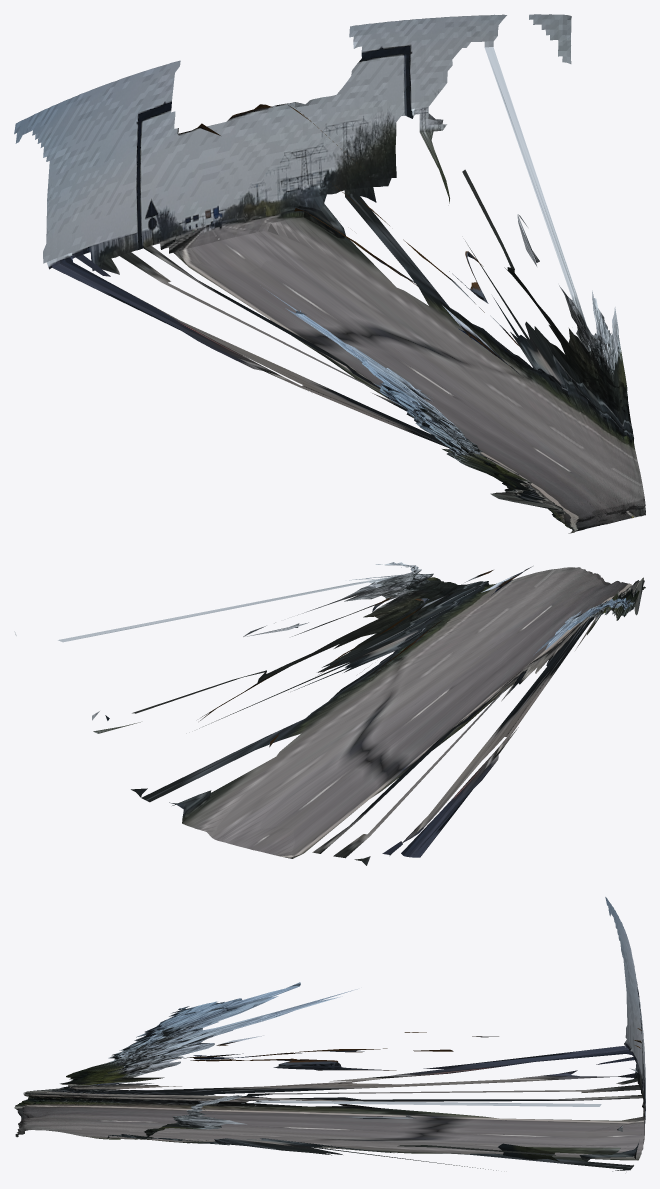
3 views of the same model, one above another, from view 1: azimuth 30°, elevation 25°; view 2: azimuth 150°, elevation 25°; view 3: azimuth 270°, elevation 25° (orthographic). The views are drawn at different scales.
Parts seen in each view (by area): view 1: defaultobject; view 2: defaultobject; view 3: defaultobject.
Boxes of the visible parts, bbox=[...] form: defaultobject: bbox=[14, 14, 645, 533]; defaultobject: bbox=[14, 562, 645, 865]; defaultobject: bbox=[14, 897, 645, 1171].
Bounding box in the file's own units: 34.52 × 12.4 × 44.57.
Materials: 1 (1 with a texture image).
